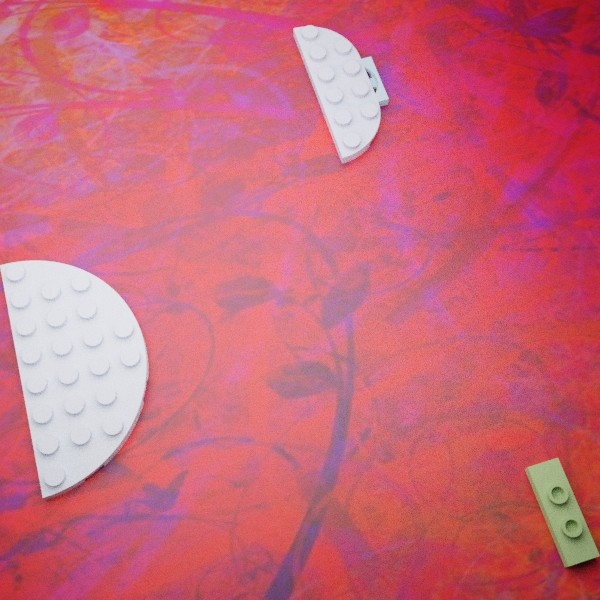lego: (0, 260, 148, 499), (293, 25, 380, 163), (524, 457, 599, 567), (320, 56, 388, 117)
